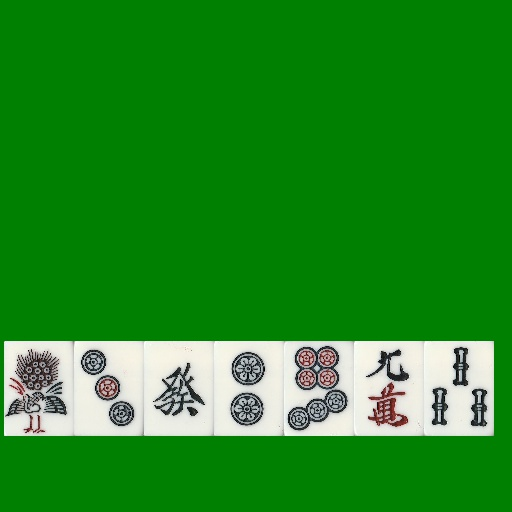1s: (4, 341, 74, 436)
2p: (214, 341, 284, 436)
3p: (74, 341, 144, 436)
3s: (424, 341, 494, 436)
7p: (284, 341, 354, 436)
9m: (354, 341, 424, 436)
hatsu: (144, 341, 214, 436)
